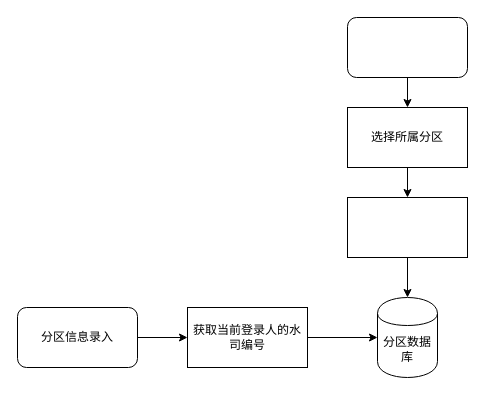
Image size: 485x395. Some labels were removed from this diagram. The box of each missing label's shape, as (x1, y1, x2, y2) in pixels:
根据当前水司编号过滤: (346, 196, 468, 258)
泵房保存: (346, 16, 468, 78)
